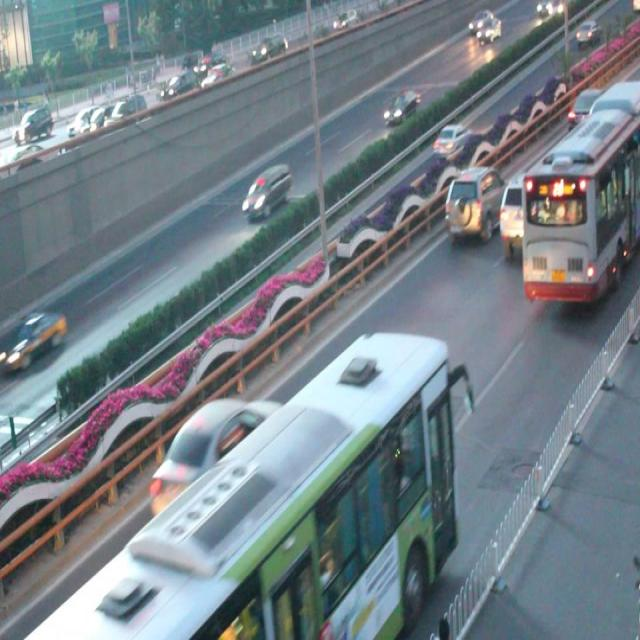car: (148, 398, 282, 512), (498, 167, 572, 264), (443, 164, 502, 240), (11, 306, 67, 373), (430, 121, 472, 161), (381, 87, 419, 128)
truck: (241, 162, 292, 220)
van: (32, 329, 464, 640), (523, 83, 640, 297)
